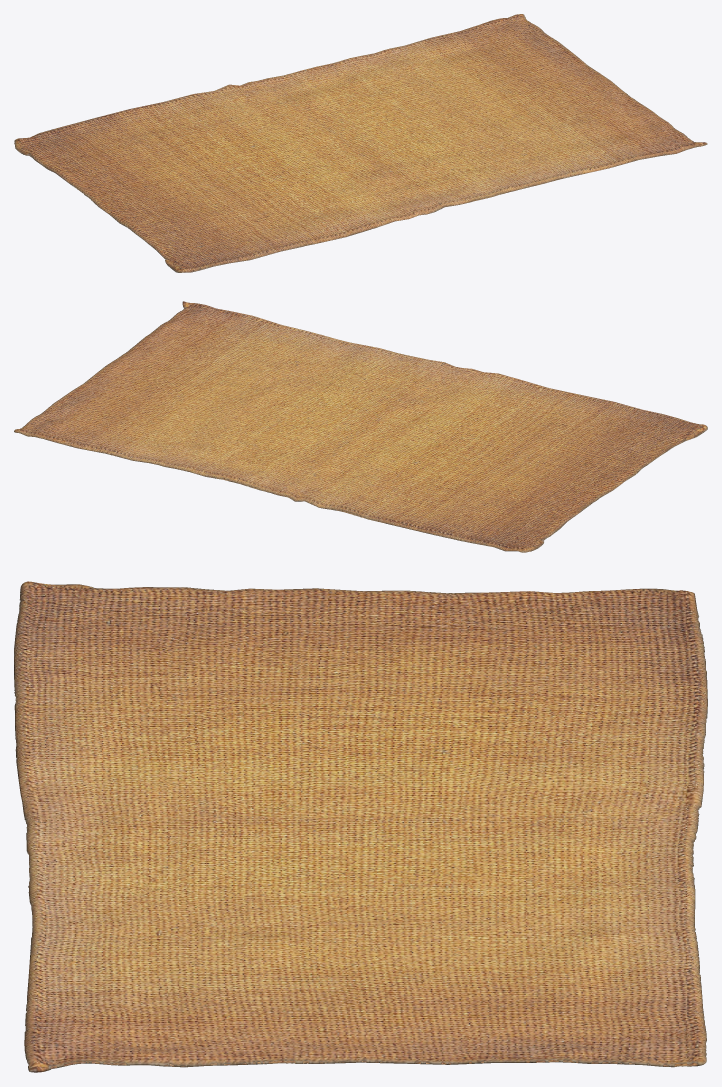
File: SM_StrawMat372.fbx
3 views of the same model, one above another, from view 1: azimuth 30°, elevation 25°; view 2: azimuth 150°, elevation 25°; view 3: azimuth 270°, elevation 25° (orthographic). The views are drawn at different scales.
Visible parts, largest first — view 1: SM_StrawMat372; view 2: SM_StrawMat372; view 3: SM_StrawMat372.
Boxes of the visible parts, x1,y1,x2,y2 form: SM_StrawMat372: (14, 14, 707, 272); SM_StrawMat372: (14, 301, 707, 552); SM_StrawMat372: (14, 581, 707, 1072).
Size of the model in its own units: 270 by 2.96 by 162.
